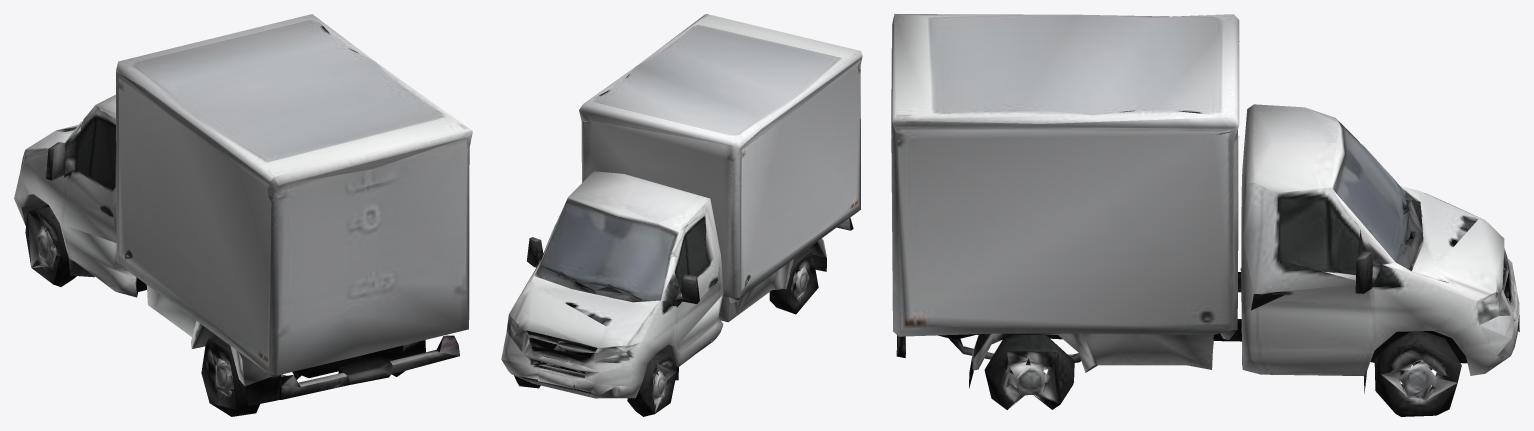
File: truck-lod1.glb
3 renders of one model, left to right at view 1: azimuth 30°, elevation 25°; view 2: azimuth 150°, elevation 25°; view 3: azimuth 270°, elevation 25°, orthographic. The views are drawn at different scales.
Visible parts, largest first — view 1: tripo_node_ae16fd82; view 2: tripo_node_ae16fd82; view 3: tripo_node_ae16fd82.
Part boxes in pixels (x1,y1,x2,y2): tripo_node_ae16fd82: (14,14,472,416); tripo_node_ae16fd82: (501,14,862,416); tripo_node_ae16fd82: (891,14,1519,416).
Bounding box in the file's own units: 2.67 × 3.42 × 6.2.
Materials: 1 (1 with a texture image).
